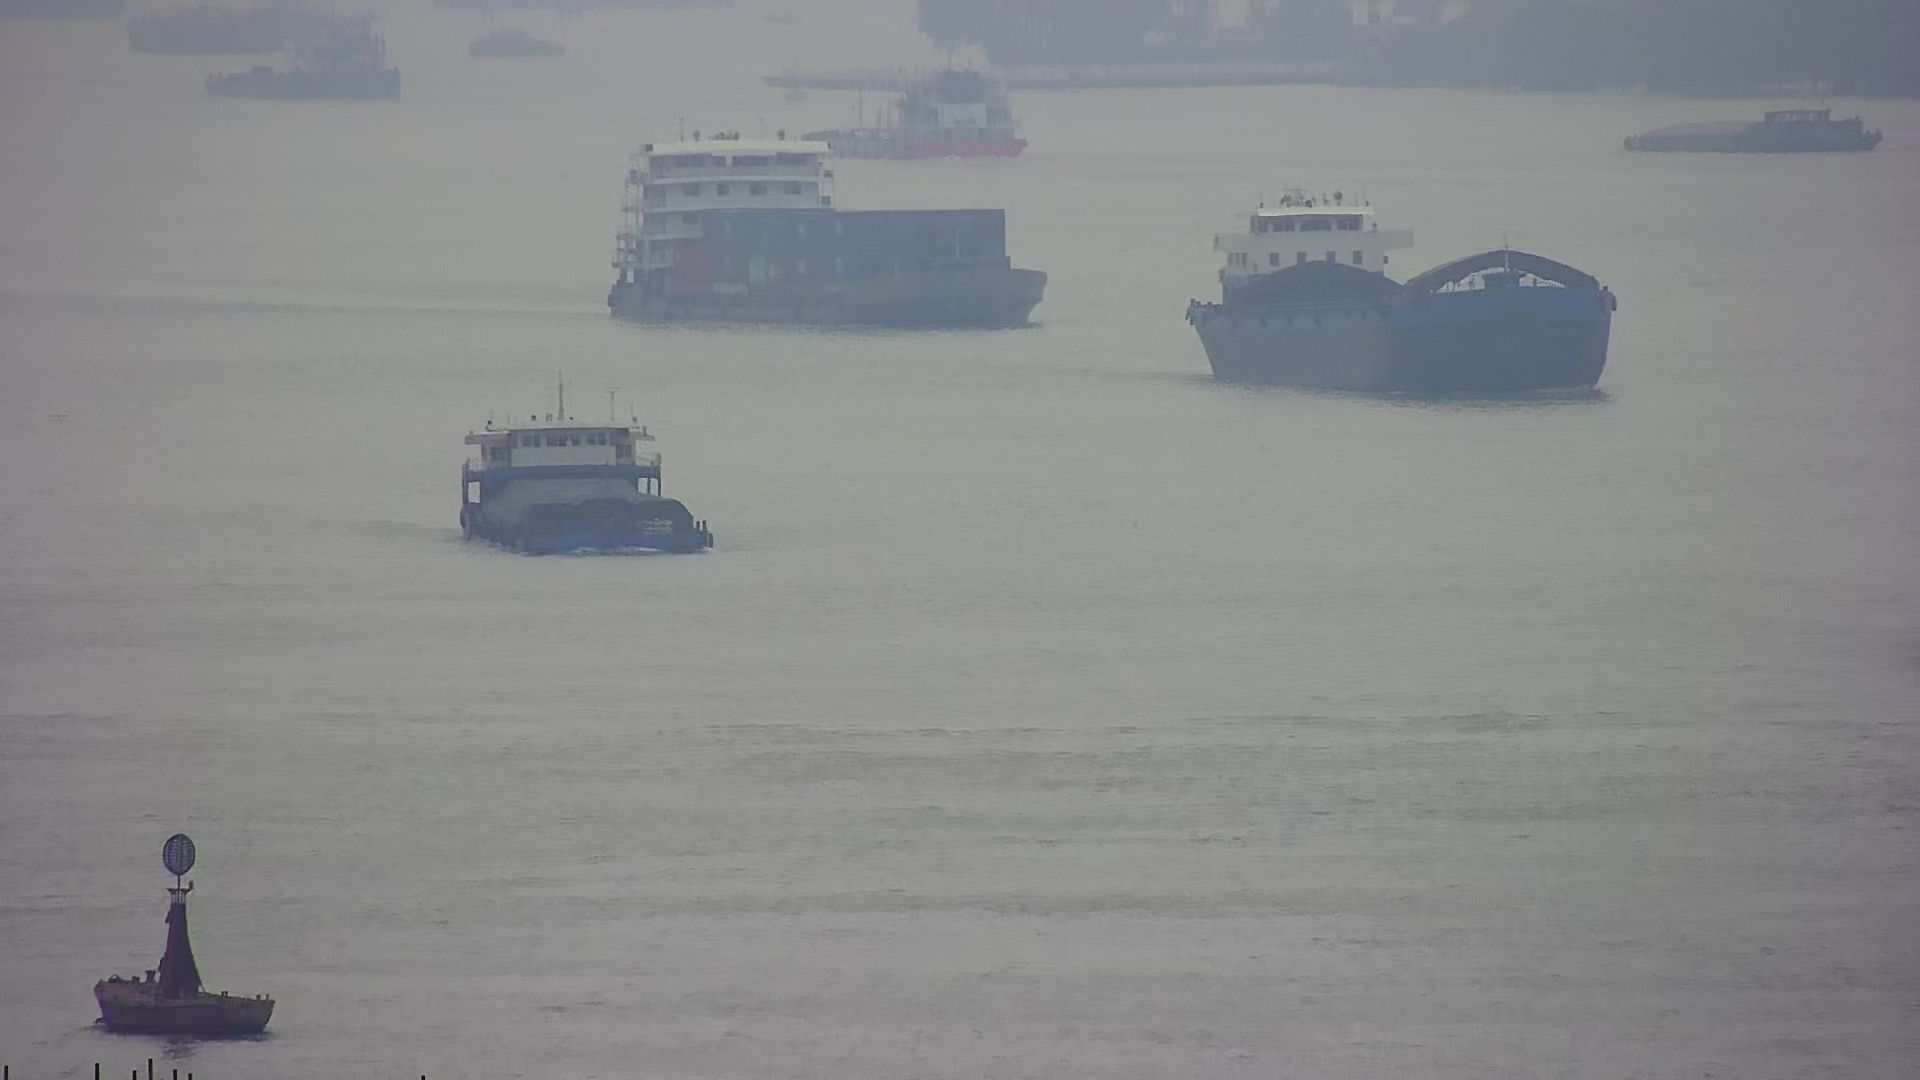boat: (95, 832, 276, 1040)
ship: (603, 127, 1048, 336), (1185, 191, 1617, 396), (459, 378, 713, 558), (764, 70, 1035, 160), (1629, 102, 1886, 158)
